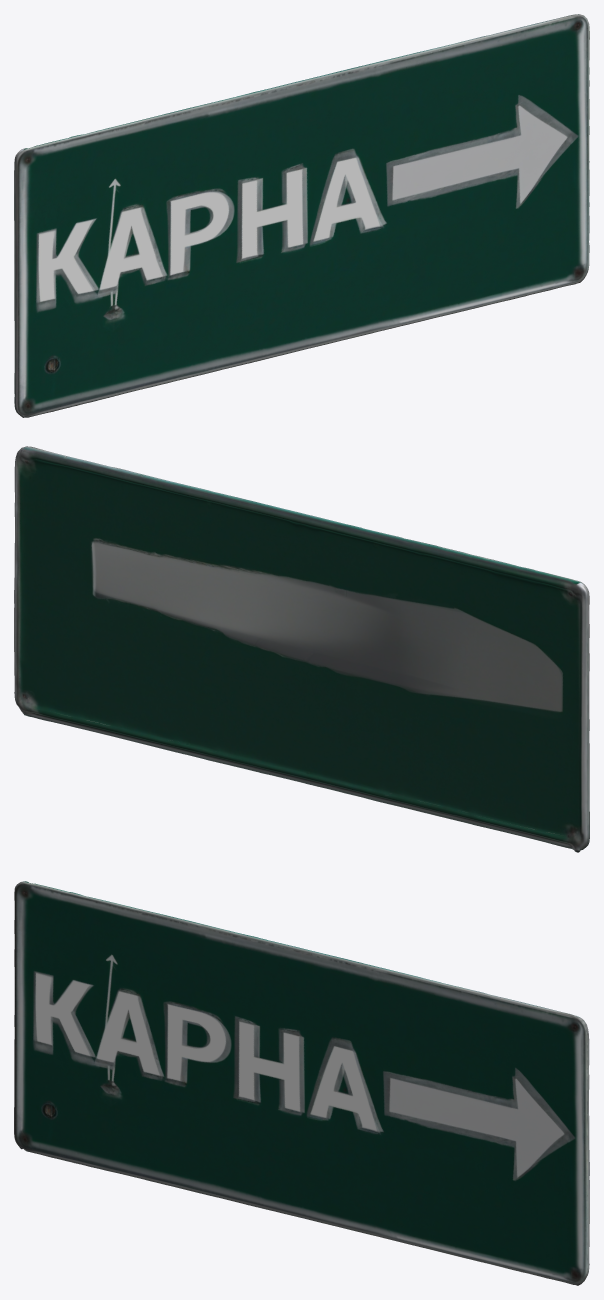
The model's file is kapha.glb.
3 views of the same model, one above another, from view 1: azimuth 30°, elevation 25°; view 2: azimuth 150°, elevation 25°; view 3: azimuth 330°, elevation 25° (orthographic).
Bounding box in the file's own units: 2 × 0.9023 × 0.0256.
Materials: 1 (1 with a texture image).
